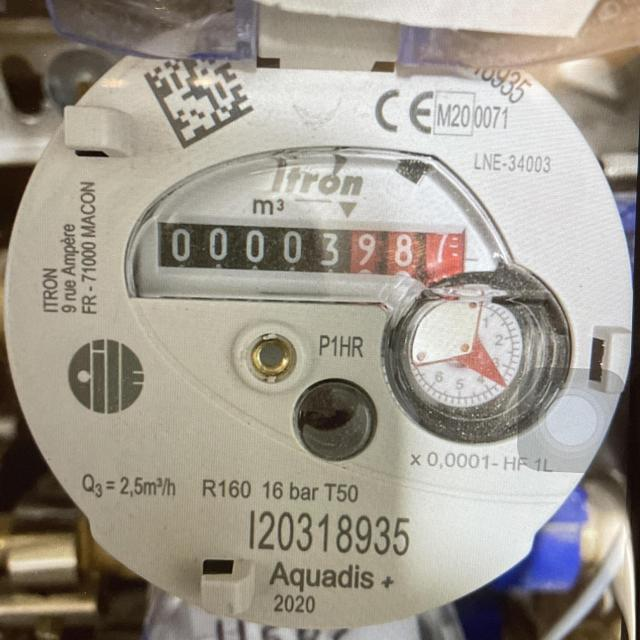gaz_meter: (4, 12, 632, 625)
indication: (158, 220, 465, 278)
